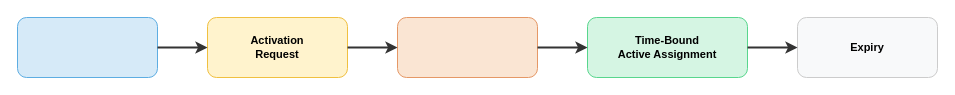
Some shapes in this 955 by 95 pixel diagram are drawn without their labels. Each missing label, with the centre of its shape:
"Approval (Optional)" belongs at point (467, 47).
"Eligible Assignment" belongs at point (87, 47).
